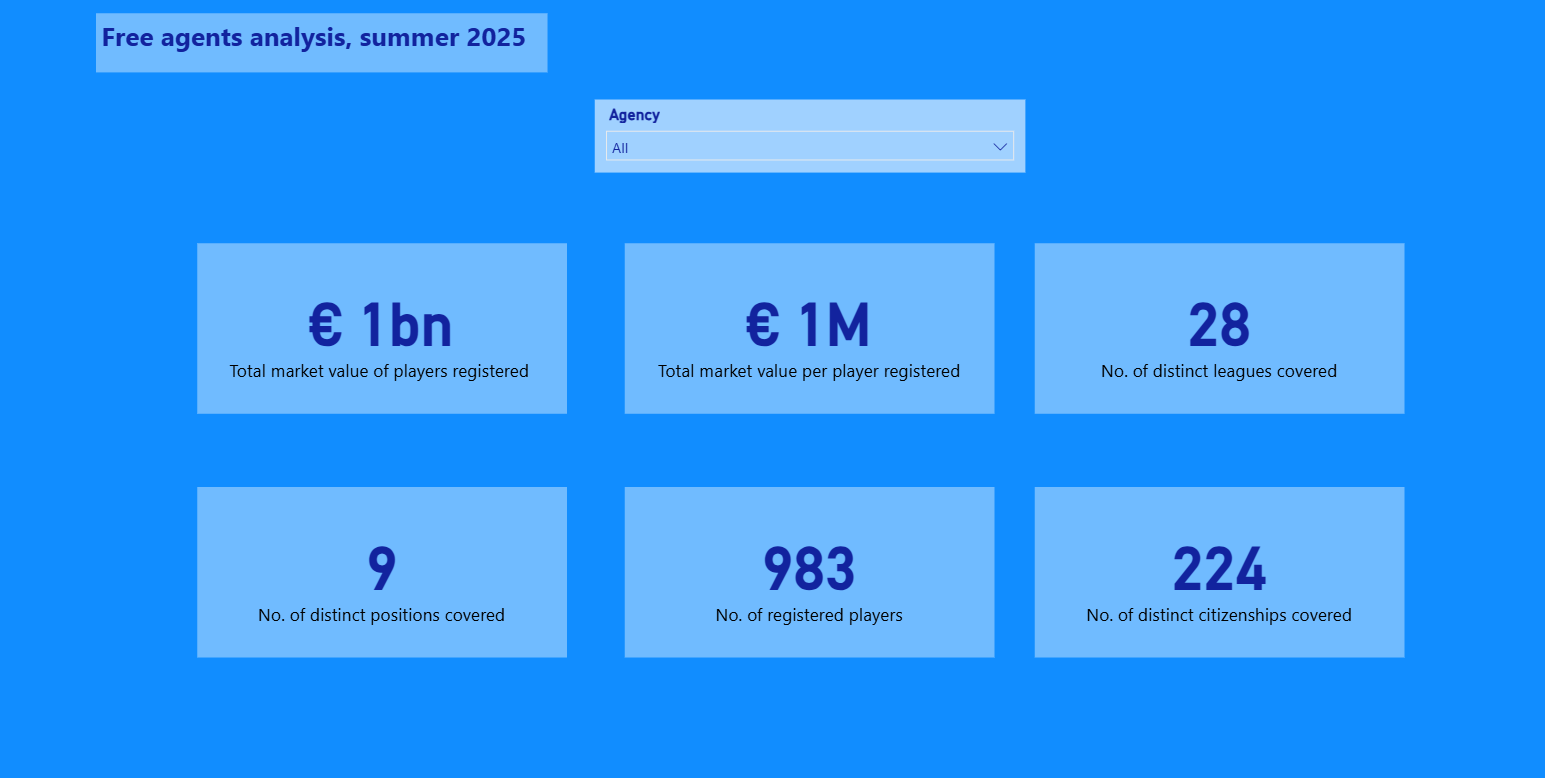

Layout of this report page (visuals, bound fields, positions):
{"tool":"powerbi","page":{"name":"key characteristics by agency","canvas":[1280,720],"ordinal":0},"visuals":[{"type":"card","title":"Market value (€) of free agents by league, Summer 2025","fields":{"Values":["leagues_free_agents_modified.market_value_euros"]},"box":[104.5,174.2,292.3,156.7],"z":0},{"type":"slicer","fields":{"Values":["free_agents_transfer_data_filtered.player_agent"]},"box":[496.6,28,329.2,102.8],"z":1000},{"type":"card","title":"Market value (€) of free agents by league, Summer 2025","fields":{"Values":["leagues_free_agents_modified.name"]},"box":[863.3,174.2,292.3,156.7],"z":2000},{"type":"card","title":"Market value (€) of free agents by league, Summer 2025","fields":{"Values":["leagues_free_agents_modified.average market value (€)"]},"box":[503.8,174.2,291.1,156.7],"z":3000},{"type":"card","title":"Market value (€) of free agents by league, Summer 2025","fields":{"Values":["leagues_free_agents_modified.citizenship"]},"box":[864.6,389.4,291.1,156.7],"z":4000},{"type":"card","title":"Market value (€) of free agents by league, Summer 2025","fields":{"Values":["leagues_free_agents_modified.main_position"]},"box":[104.5,389.8,292.4,156.8],"z":5000},{"type":"card","title":"Market value (€) of free agents by league, Summer 2025","fields":{"Values":["leagues_free_agents_modified.league"]},"box":[504.1,389.8,291.5,156.8],"z":6000},{"type":"textbox","box":[18.3,15.1,415.5,54.3],"z":7000}]}

Visuals, with their boxes on the page's 1280x720 design canvas (x1, y1, x2, y2). These are canvas units, not pixel positions in the 1545x778 screenshot, which may show the page scaled, cropped or inside an application window:
"Market value (€) of free agents by league, Summer 2025" card: [104,174,397,331]
slicer - free_agents_transfer_data_filtered.player_agent: [497,28,826,131]
"Market value (€) of free agents by league, Summer 2025" card: [863,174,1156,331]
"Market value (€) of free agents by league, Summer 2025" card: [504,174,795,331]
"Market value (€) of free agents by league, Summer 2025" card: [865,389,1156,546]
"Market value (€) of free agents by league, Summer 2025" card: [104,390,397,547]
"Market value (€) of free agents by league, Summer 2025" card: [504,390,796,547]
textbox: [18,15,434,69]
